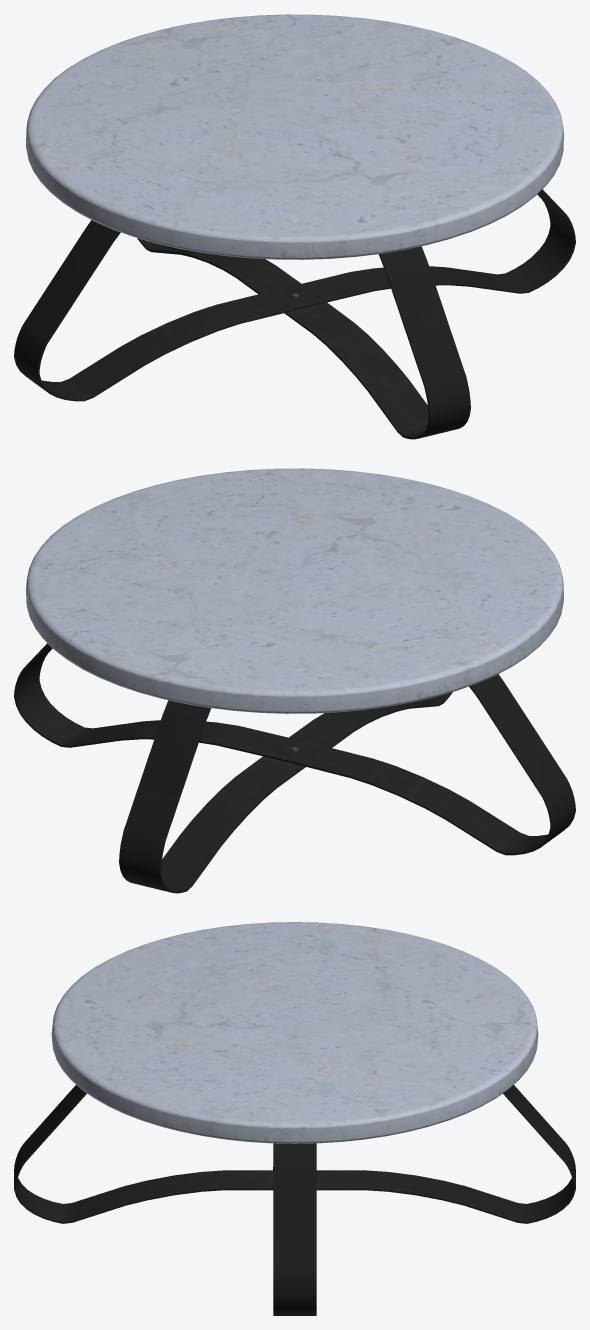
File: ph_round_coffee_table.glb
3 views of the same model, one above another, from view 1: azimuth 30°, elevation 25°; view 2: azimuth 150°, elevation 25°; view 3: azimuth 270°, elevation 25° (orthographic). The views are drawn at different scales.
Parts seen in each view (by area): view 1: coffee_table_round_01; view 2: coffee_table_round_01; view 3: coffee_table_round_01.
Boxes of the visible parts, x1=… form: coffee_table_round_01: x1=14, y1=14, x2=575, y2=439; coffee_table_round_01: x1=14, y1=468, x2=575, y2=893; coffee_table_round_01: x1=14, y1=922, x2=575, y2=1315.
Size of the model in its own units: 1.3 by 0.4911 by 1.3.
1 material, 1 textured.
